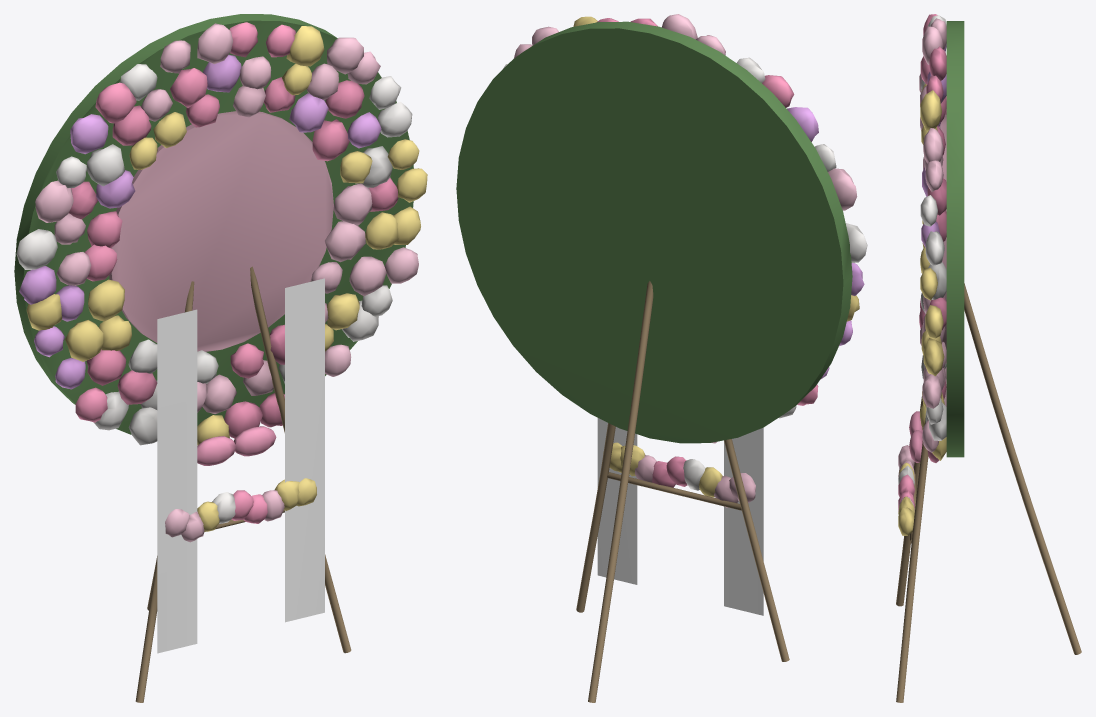
File: pr_wreath_p.glb
3 views of the same model, side by side, from view 1: azimuth 30°, elevation 25°; view 2: azimuth 150°, elevation 25°; view 3: azimuth 270°, elevation 25° (orthographic). The views are drawn at different scales.
Visible parts, largest first — view 1: body, ribbon_L, ribbon_R; view 2: body, ribbon_L, ribbon_R; view 3: body.
Boxes of the visible parts, x1,y1,x2,y2 form: body: [14, 14, 427, 702]; ribbon_L: [157, 309, 197, 653]; ribbon_R: [285, 278, 324, 622]; body: [456, 14, 867, 702]; ribbon_L: [724, 427, 763, 615]; ribbon_R: [597, 418, 637, 584]; body: [896, 14, 1081, 702].
Bounding box in the file's own units: 2.04 × 3.08 × 0.8339.
